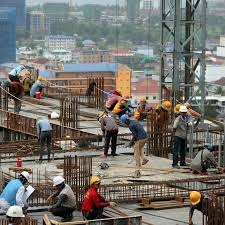helmet: (190, 190, 201, 204), (90, 176, 99, 185), (163, 100, 170, 110), (175, 102, 181, 113)
